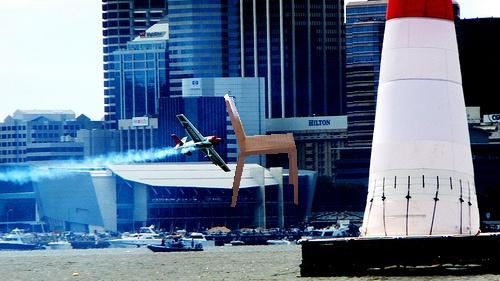tampered: (225, 95, 298, 207)
